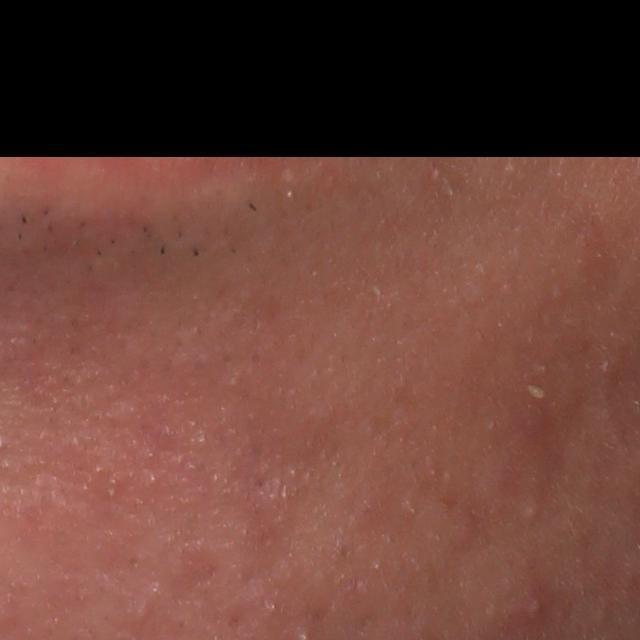comedo: (522, 502, 545, 523)
